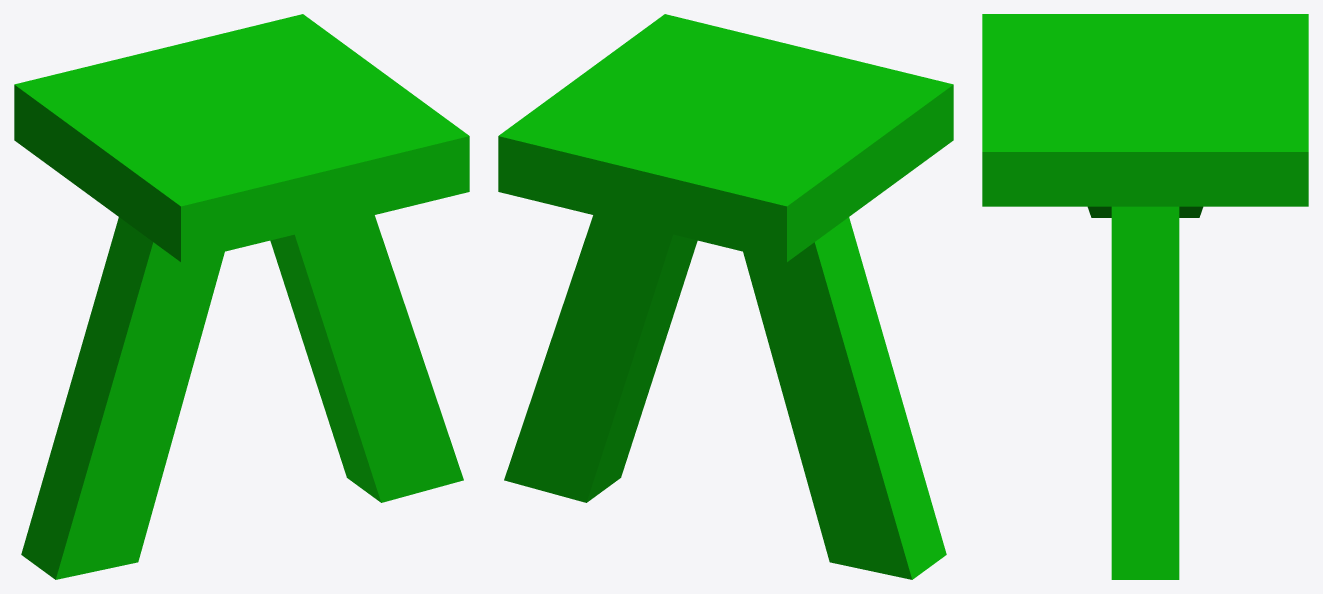
File: UCXBlockBase_low.fbx
3 renders of one model, left to right at view 1: azimuth 30°, elevation 25°; view 2: azimuth 150°, elevation 25°; view 3: azimuth 270°, elevation 25°, orthographic. The views are drawn at different scales.
Visible parts, largest first — view 1: UCX_BlockBase_low_00; view 2: UCX_BlockBase_low_00; view 3: UCX_BlockBase_low_00.
Boxes of the visible parts, x1,y1,x2,y2 form: UCX_BlockBase_low_00: (14, 14, 469, 579); UCX_BlockBase_low_00: (498, 14, 953, 579); UCX_BlockBase_low_00: (982, 14, 1308, 579).
Size of the model in its own units: 0.1549 by 0.1486 by 0.1095.
